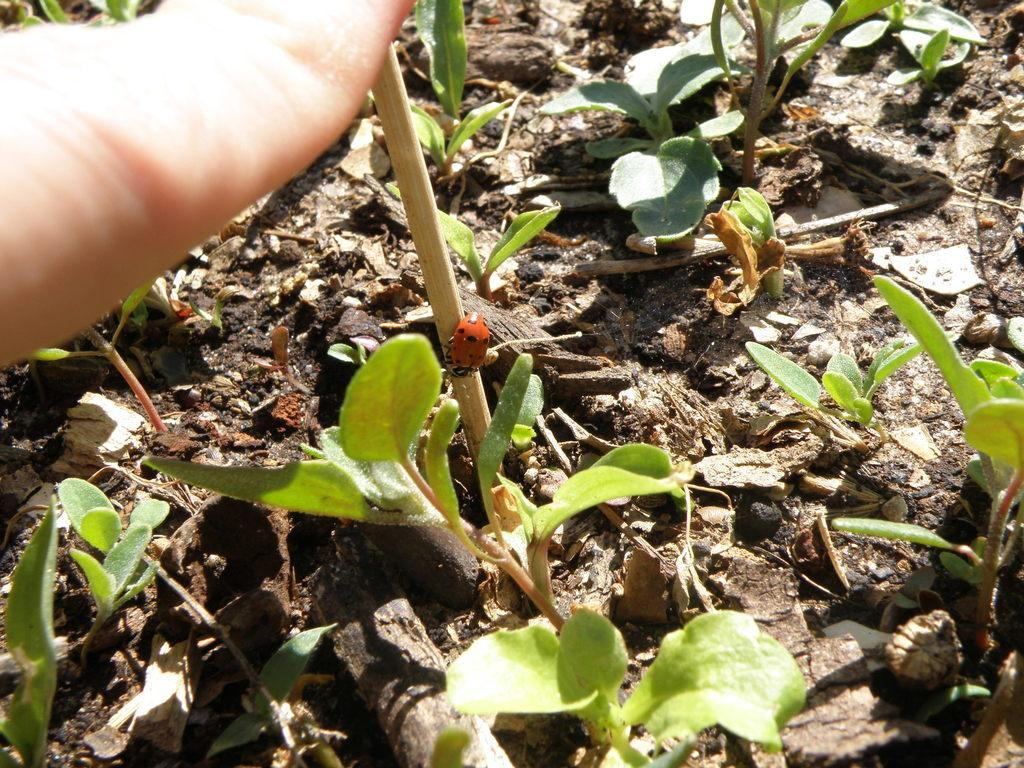ladybug: (439, 307, 495, 385)
